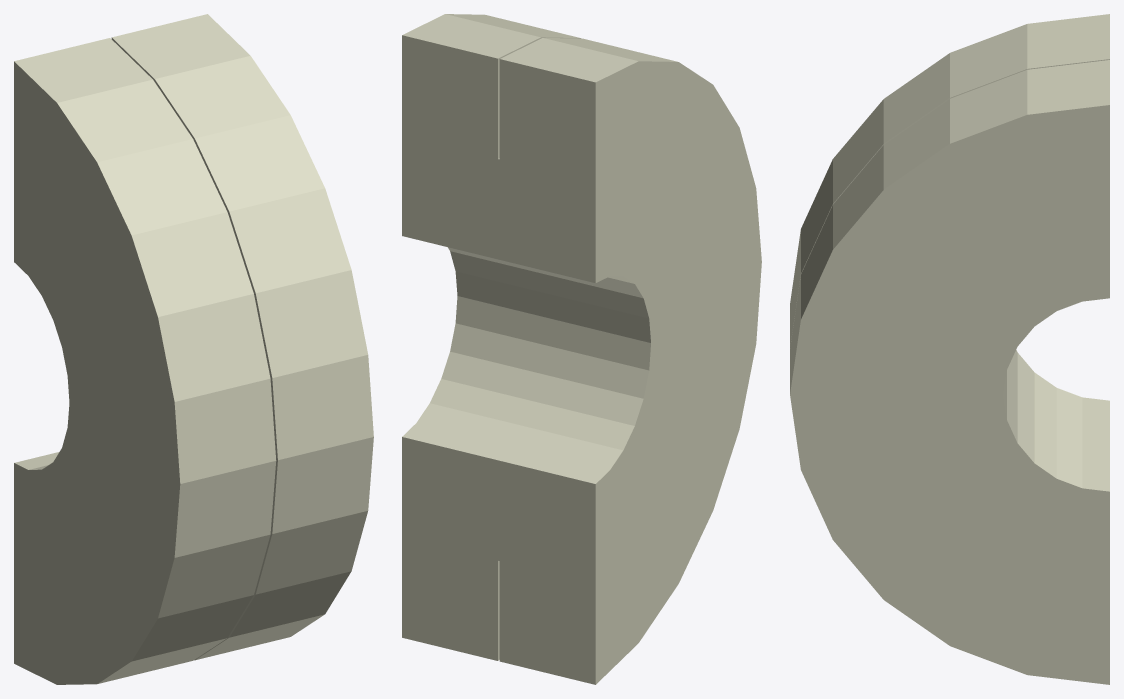
File: section_162.obj
3 views of the same model, side by side, from view 1: azimuth 30°, elevation 25°; view 2: azimuth 150°, elevation 25°; view 3: azimuth 270°, elevation 25° (orthographic). The views are drawn at different scales.
Bounding box in the file's own units: 2.02 × 6 × 3.
